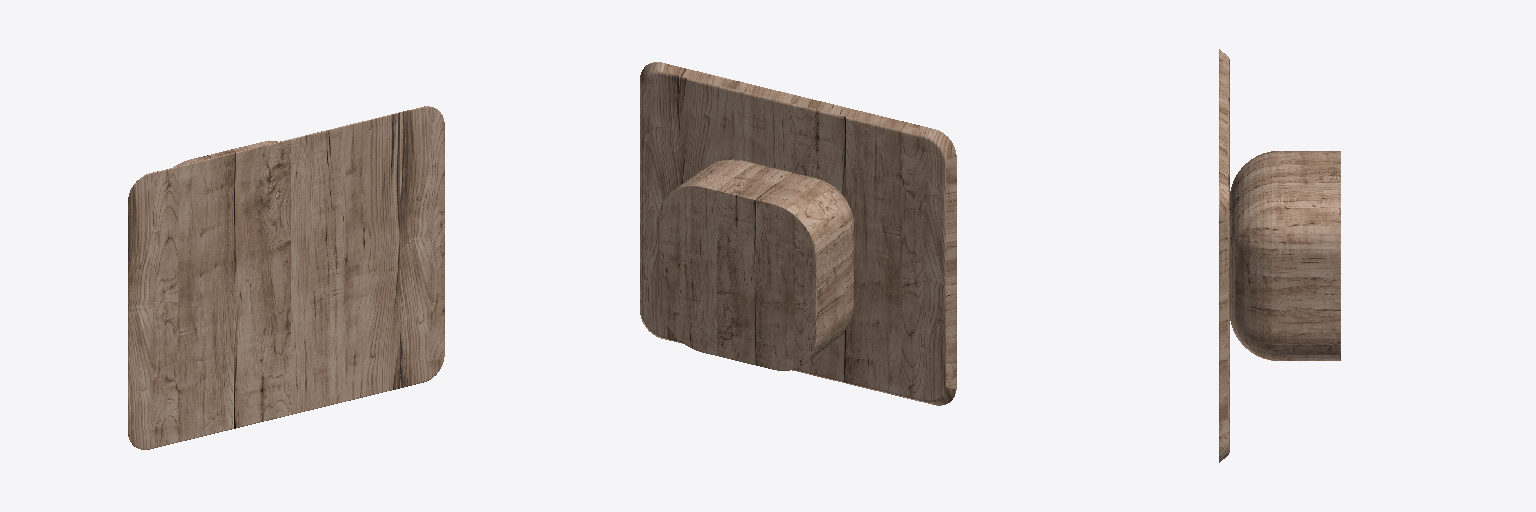
3 views of the same model, side by side, from view 1: azimuth 30°, elevation 25°; view 2: azimuth 150°, elevation 25°; view 3: azimuth 270°, elevation 25° (orthographic).
Bounding box in the file's own units: 179 × 149 × 60.
1 materials, 1 textured.